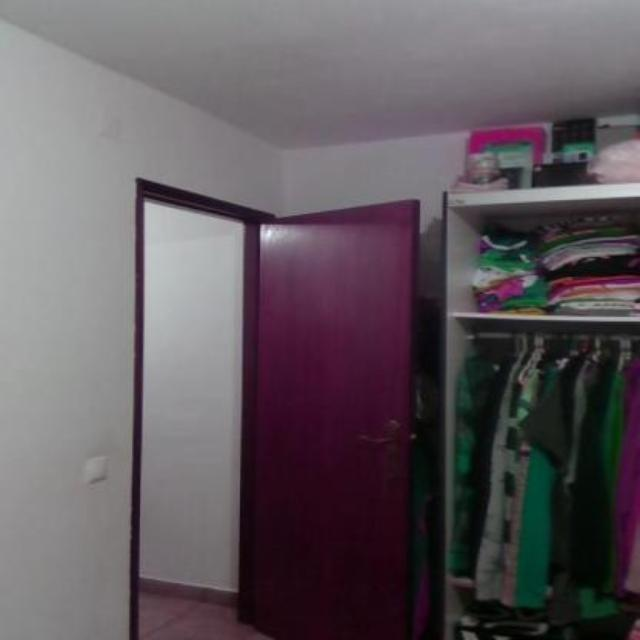door: (242, 198, 419, 638)
